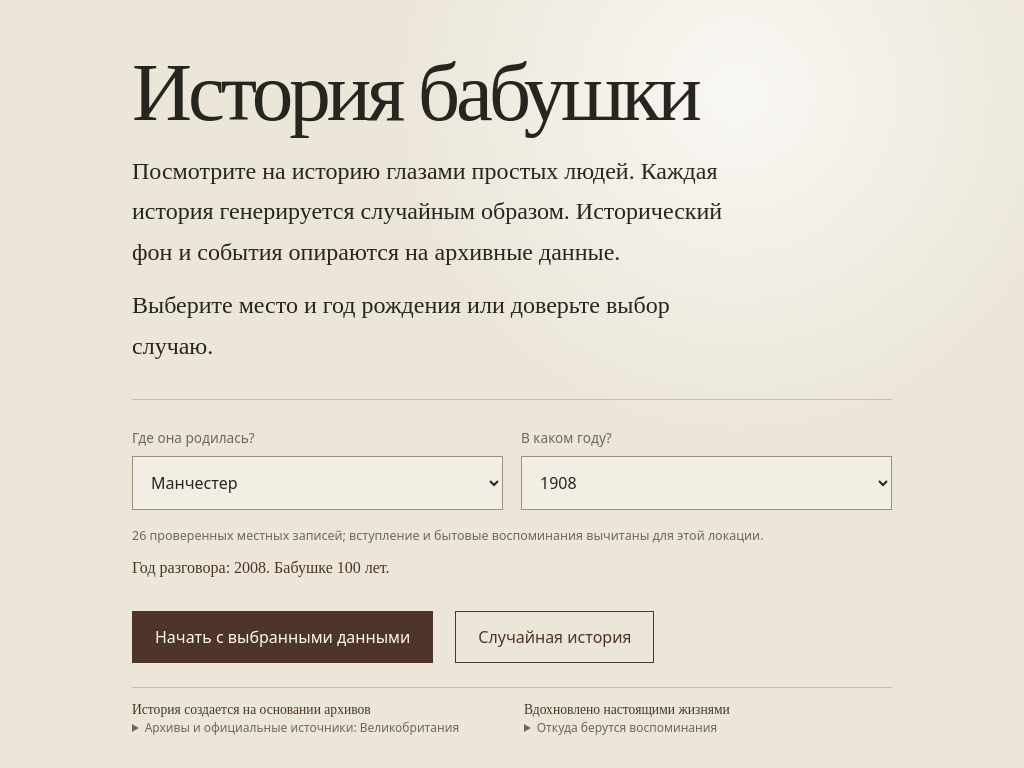
Test: accessible vertical slice › lists the sources behind the memories in a closed disclosure
This screenshot has width=1024, height=768.
expect the text "Вдохновлено настоящими жизнями" is shown: met, box 524,702 -> 730,717
Click the heading "Откуда берутся воспоминания" at (621, 728), box 524,719 -> 717,737
(page scrolled)
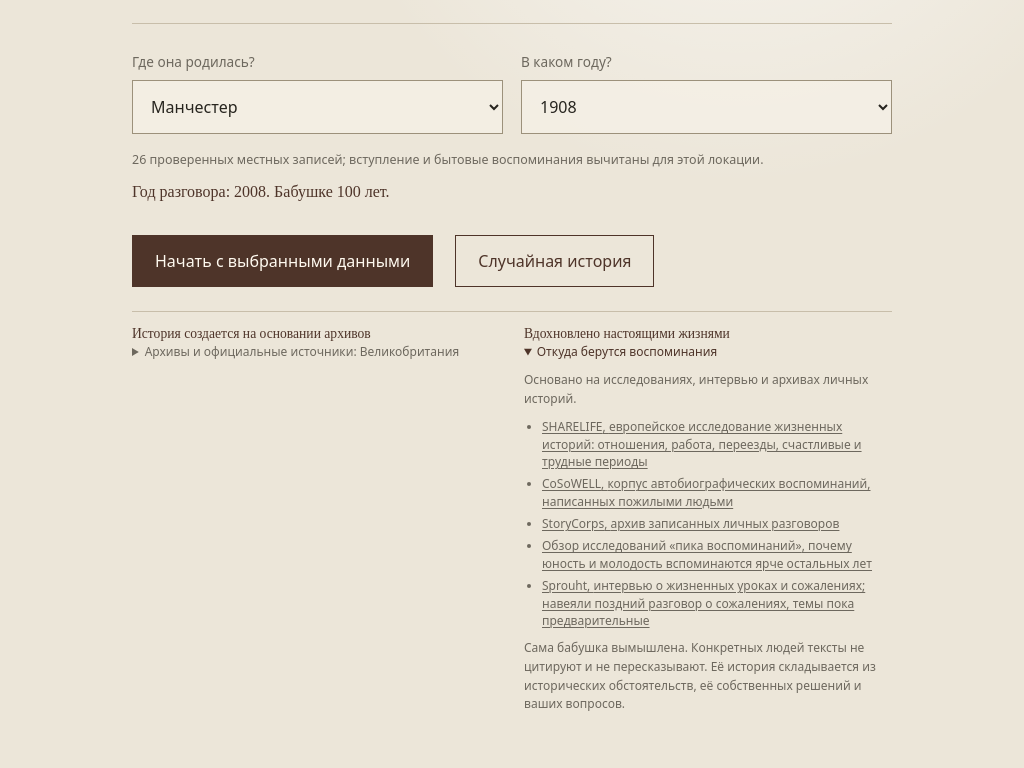
expect the link "StoryCorps, архив записанных личных разговоров" is shown: met, box 542,515 -> 839,532
expect the text "Сама бабушка вымышлена" is shown: met, box 524,639 -> 876,712
